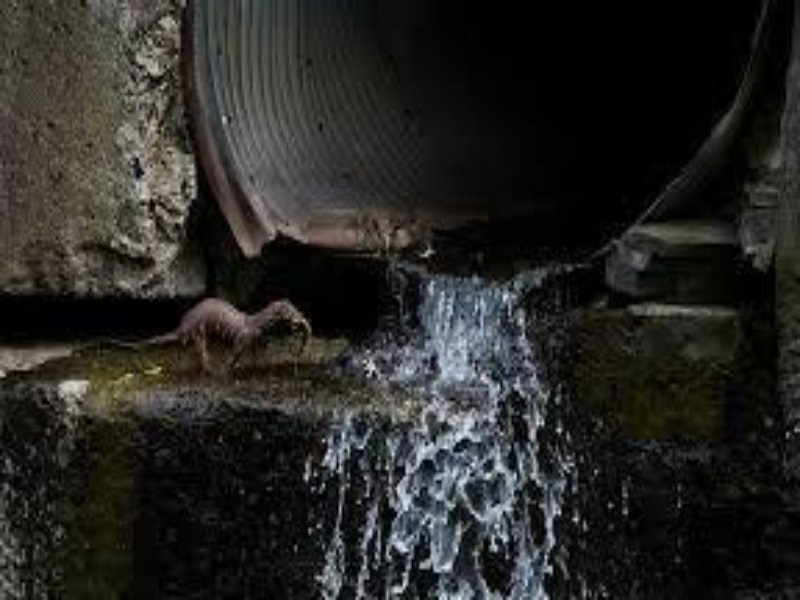minkish: (101, 296, 312, 379)
